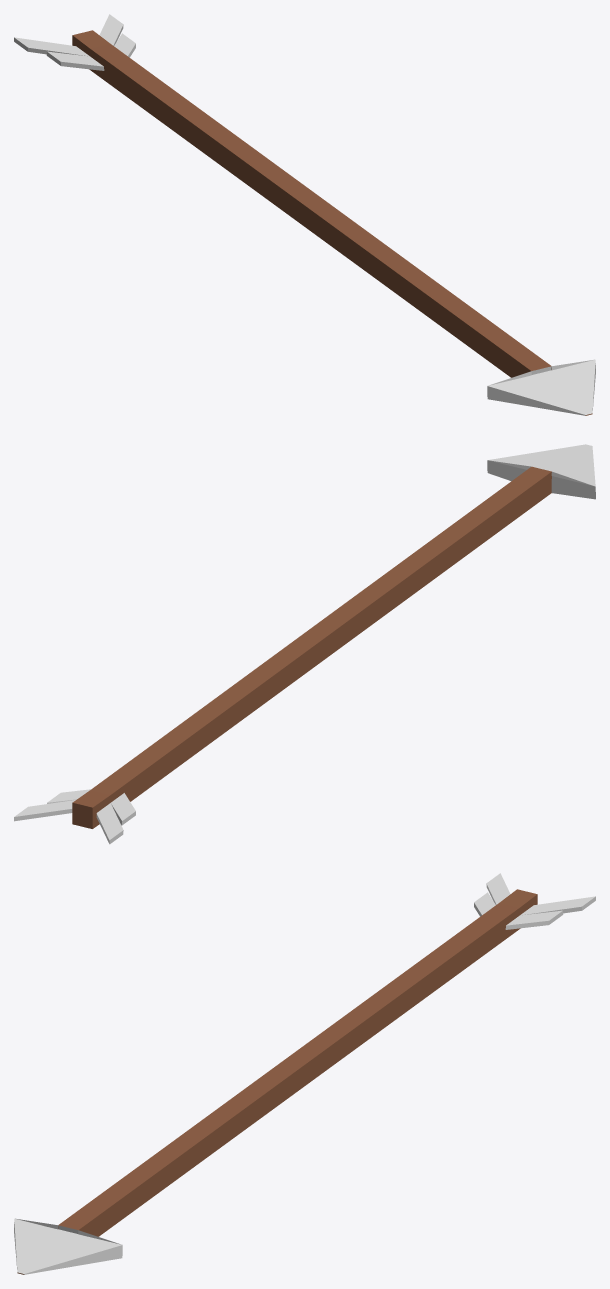
The model's file is Arrow.fbx.
3 views of the same model, one above another, from view 1: azimuth 30°, elevation 25°; view 2: azimuth 150°, elevation 25°; view 3: azimuth 330°, elevation 25° (orthographic).
Parts seen in each view (by area): view 1: Arquero.002; view 2: Arquero.002; view 3: Arquero.002.
Part boxes in pixels (x1=…): Arquero.002: x1=14, y1=14, x2=595, y2=415; Arquero.002: x1=14, y1=444, x2=595, y2=844; Arquero.002: x1=14, y1=873, x2=595, y2=1274.
Bounding box in the file's own units: 2.08 × 0.4037 × 17.52.
